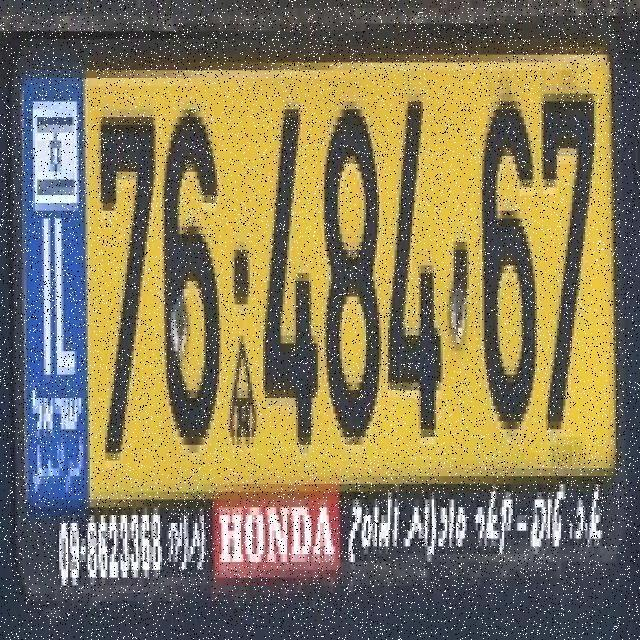LicensePlate: (4, 7, 634, 592)
